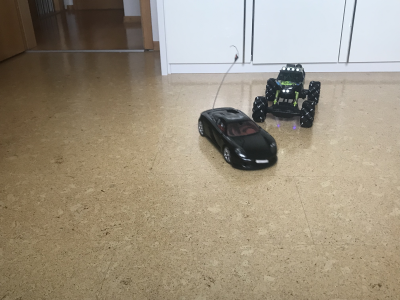remote control car: (249, 56, 322, 130)
